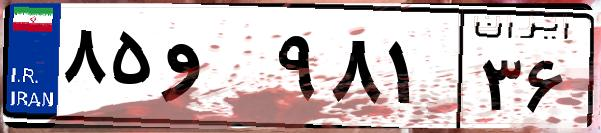1: (385, 28, 445, 110)
3: (475, 38, 525, 113)
5: (110, 28, 158, 98)
6: (525, 38, 570, 115)
8: (330, 28, 385, 110), (57, 26, 110, 100)
9: (270, 28, 330, 110)
و: (158, 20, 270, 120)
